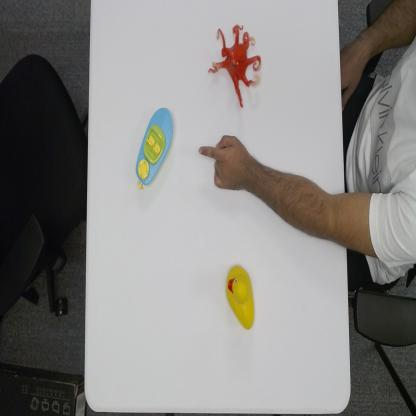Arm: (254, 153, 389, 249)
Boat: (135, 106, 174, 191)
Duck: (224, 263, 256, 331)
Hand: (198, 134, 252, 194)
Octopus: (207, 21, 263, 109)
